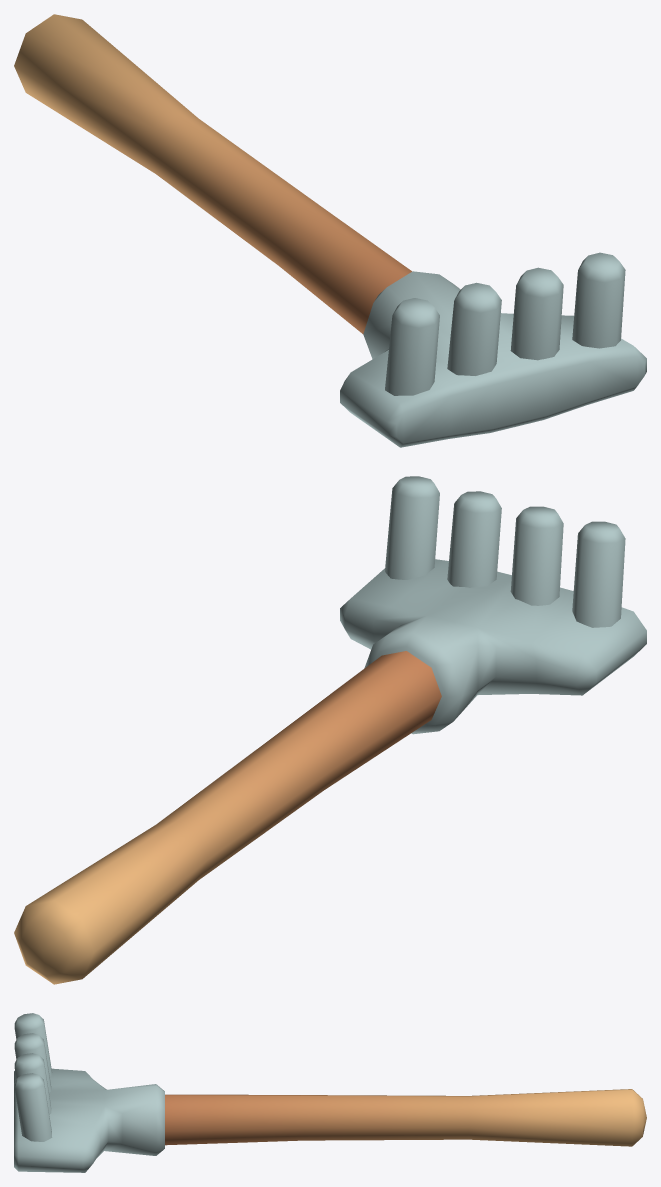
The model's file is rake.fbx.
3 renders of one model, top to bottom at view 1: azimuth 30°, elevation 25°; view 2: azimuth 150°, elevation 25°; view 3: azimuth 270°, elevation 25°, orthographic. The views are drawn at different scales.
Parts seen in each view (by area): view 1: rake; view 2: rake; view 3: rake.
Part boxes in pixels (box(x1,y1,x2,y2)): rake: box(14, 14, 646, 447); rake: box(14, 476, 646, 984); rake: box(14, 1013, 646, 1172).
Size of the model in its own units: 0.4205 by 0.2494 by 1.34.
1 material, 1 textured.
